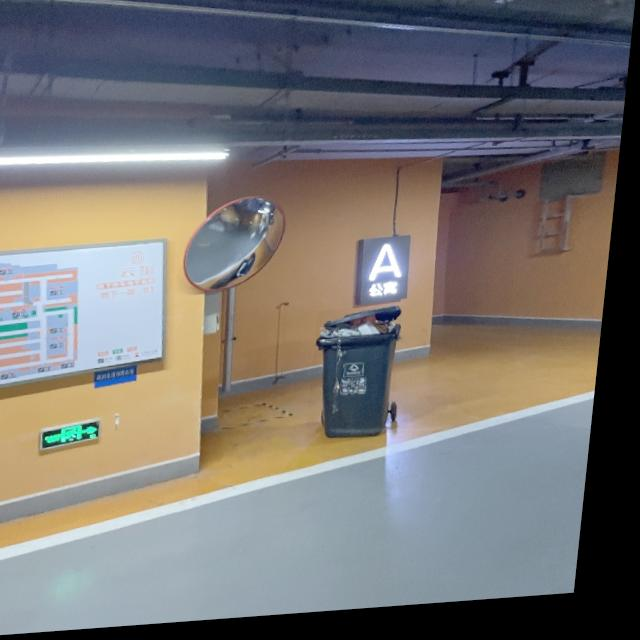overflow: (315, 311, 411, 448)
